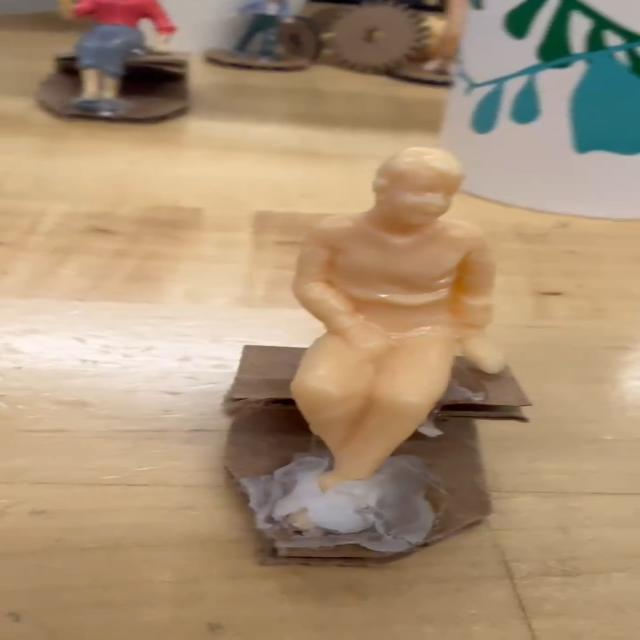Unauthorized: (300, 146, 508, 503)
